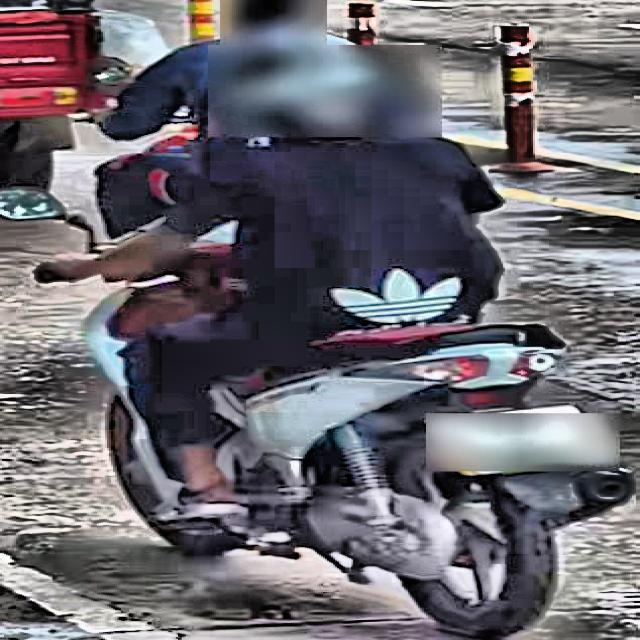motorcycle: (8, 164, 639, 640)
